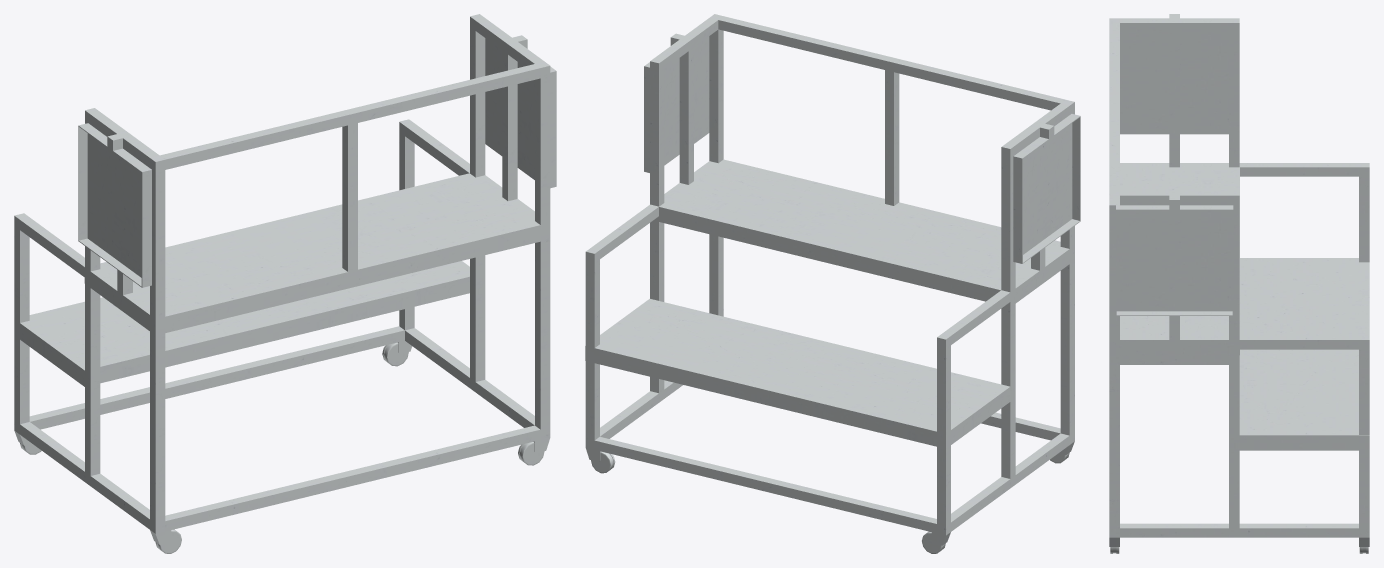
Rendered from SM_解剖房_物品台_03.fbx.
The picture shows the model from 3 angles, left to right: view 1: azimuth 30°, elevation 25°; view 2: azimuth 150°, elevation 25°; view 3: azimuth 270°, elevation 25°; orthographic projection. The views are drawn at different scales.
Visible parts, largest first — view 1: SM_解剖房_物品台_03; view 2: SM_解剖房_物品台_03; view 3: SM_解剖房_物品台_03.
Boxes of the visible parts, x1=… form: SM_解剖房_物品台_03: x1=14, y1=14, x2=556, y2=553; SM_解剖房_物品台_03: x1=585, y1=14, x2=1080, y2=553; SM_解剖房_物品台_03: x1=1109, y1=14, x2=1369, y2=553.
Size of the model in its own units: 1050 by 959 by 620.
